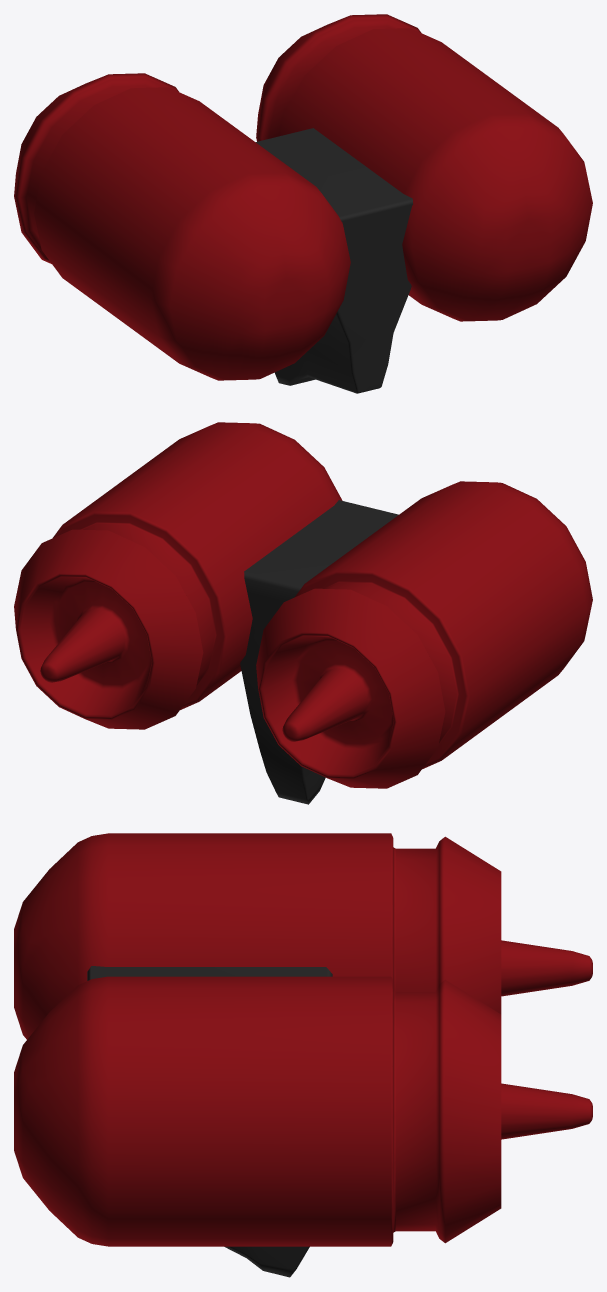
File: Ship_enemy_07_Engine.fbx
3 renders of one model, top to bottom at view 1: azimuth 30°, elevation 25°; view 2: azimuth 150°, elevation 25°; view 3: azimuth 270°, elevation 25°, orthographic. The views are drawn at different scales.
Visible parts, largest first — view 1: Ship_enemy_07_Engine; view 2: Ship_enemy_07_Engine; view 3: Ship_enemy_07_Engine.
Part boxes in pixels (x1=…): Ship_enemy_07_Engine: x1=14, y1=14, x2=592, y2=393; Ship_enemy_07_Engine: x1=14, y1=422, x2=592, y2=804; Ship_enemy_07_Engine: x1=14, y1=833, x2=592, y2=1277.
Size of the model in its own units: 237 by 151 by 225.
